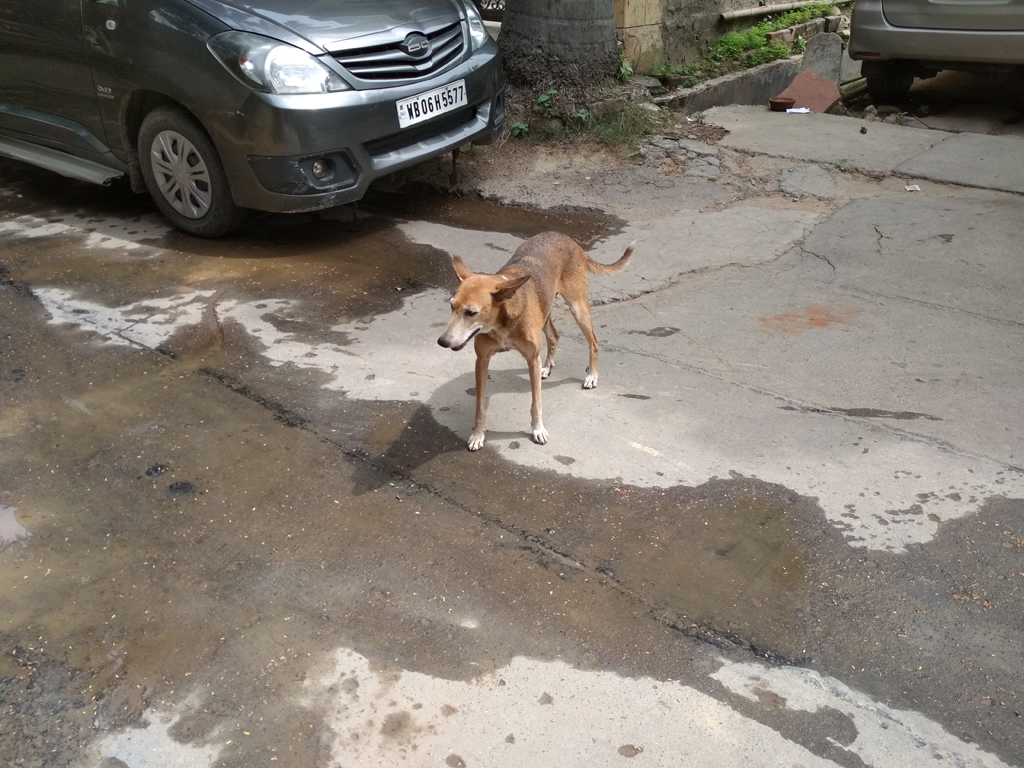dog: (437, 230, 635, 451)
